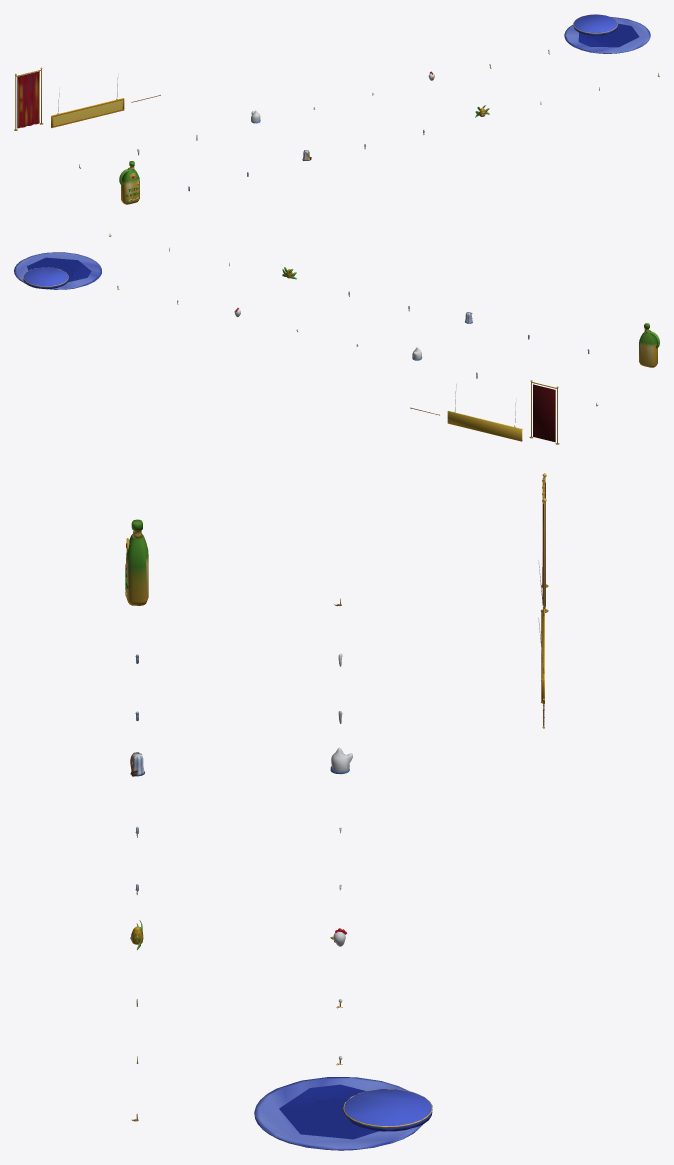
Rendered from prp_show_a_lite.glb.
The picture shows the model from 3 angles, top to bottom: view 1: azimuth 30°, elevation 25°; view 2: azimuth 150°, elevation 25°; view 3: azimuth 270°, elevation 25°; orthographic projection. The views are drawn at different scales.
Visible parts, largest first — view 1: INST_prp_show_a_lite_floor_disc, INST_prp_show_a_lite_drape_cloth, INST_prp_show_a_lite_banner_board, INST_prp_show_a_lite_bottle_body; view 2: INST_prp_show_a_lite_floor_disc, INST_prp_show_a_lite_drape_cloth, INST_prp_show_a_lite_banner_board, INST_prp_show_a_lite_bottle_body; view 3: INST_prp_show_a_lite_floor_disc, INST_prp_show_a_lite_bottle_body.
Boxes of the visible parts, x1,y1,x2,y2 form: INST_prp_show_a_lite_floor_disc: (564,14,650,53); INST_prp_show_a_lite_drape_cloth: (14,67,43,130); INST_prp_show_a_lite_banner_board: (51,73,124,127); INST_prp_show_a_lite_bottle_body: (119,161,139,204); INST_prp_show_a_lite_floor_disc: (14,252,101,289); INST_prp_show_a_lite_drape_cloth: (529,380,559,444); INST_prp_show_a_lite_banner_board: (447,383,522,441); INST_prp_show_a_lite_bottle_body: (639,323,659,367); INST_prp_show_a_lite_floor_disc: (254,1077,432,1150); INST_prp_show_a_lite_bottle_body: (125,519,148,605).
Size of the model in its own units: 39.54 by 4.1 by 12.51.
